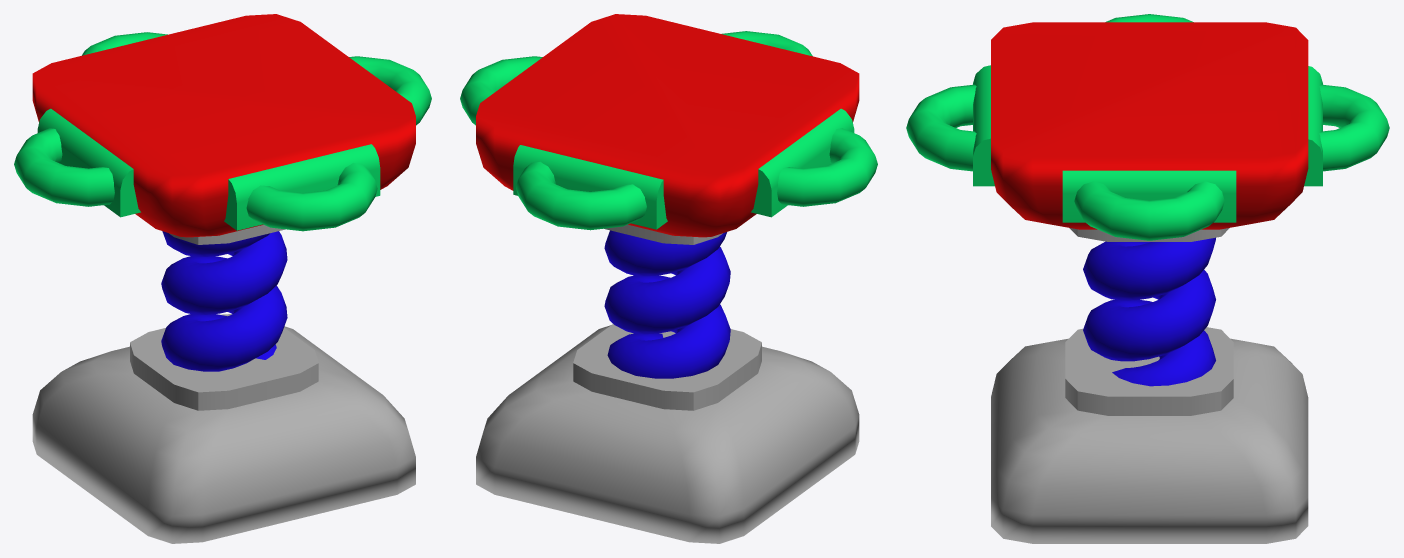
Rendered from springnew-3.fbx.
3 views of the same model, side by side, from view 1: azimuth 30°, elevation 25°; view 2: azimuth 150°, elevation 25°; view 3: azimuth 270°, elevation 25° (orthographic). The views are drawn at different scales.
Visible parts, largest first — view 1: Bottom, Top, pHelix1, Handle4, Handle1, Handle2, Handle3; view 2: Bottom, Top, pHelix1, Handle3, Handle1, Handle2, Handle4; view 3: Bottom, Top, pHelix1, Handle2, Handle4, Handle3, Handle1.
Boxes of the visible parts, bbox=[...] form: Bottom: bbox=[32, 314, 415, 543]; Top: bbox=[32, 14, 415, 244]; pHelix1: bbox=[161, 231, 287, 371]; Handle4: bbox=[224, 144, 380, 231]; Handle1: bbox=[14, 108, 140, 217]; Handle2: bbox=[349, 56, 431, 125]; Handle3: bbox=[82, 32, 167, 55]; Bottom: bbox=[476, 324, 859, 543]; Top: bbox=[476, 14, 859, 244]; pHelix1: bbox=[604, 230, 730, 378]; Handle3: bbox=[513, 145, 667, 230]; Handle1: bbox=[751, 108, 877, 217]; Handle2: bbox=[460, 56, 542, 125]; Handle4: bbox=[722, 31, 812, 56]; Bottom: bbox=[991, 327, 1308, 543]; Top: bbox=[991, 22, 1308, 241]; pHelix1: bbox=[1083, 237, 1215, 386]; Handle2: bbox=[1062, 170, 1236, 240]; Handle4: bbox=[906, 65, 994, 186]; Handle3: bbox=[1304, 66, 1389, 186]; Handle1: bbox=[1105, 14, 1193, 22].
Bounding box in the file's own units: 4.52 × 4 × 4.54.
